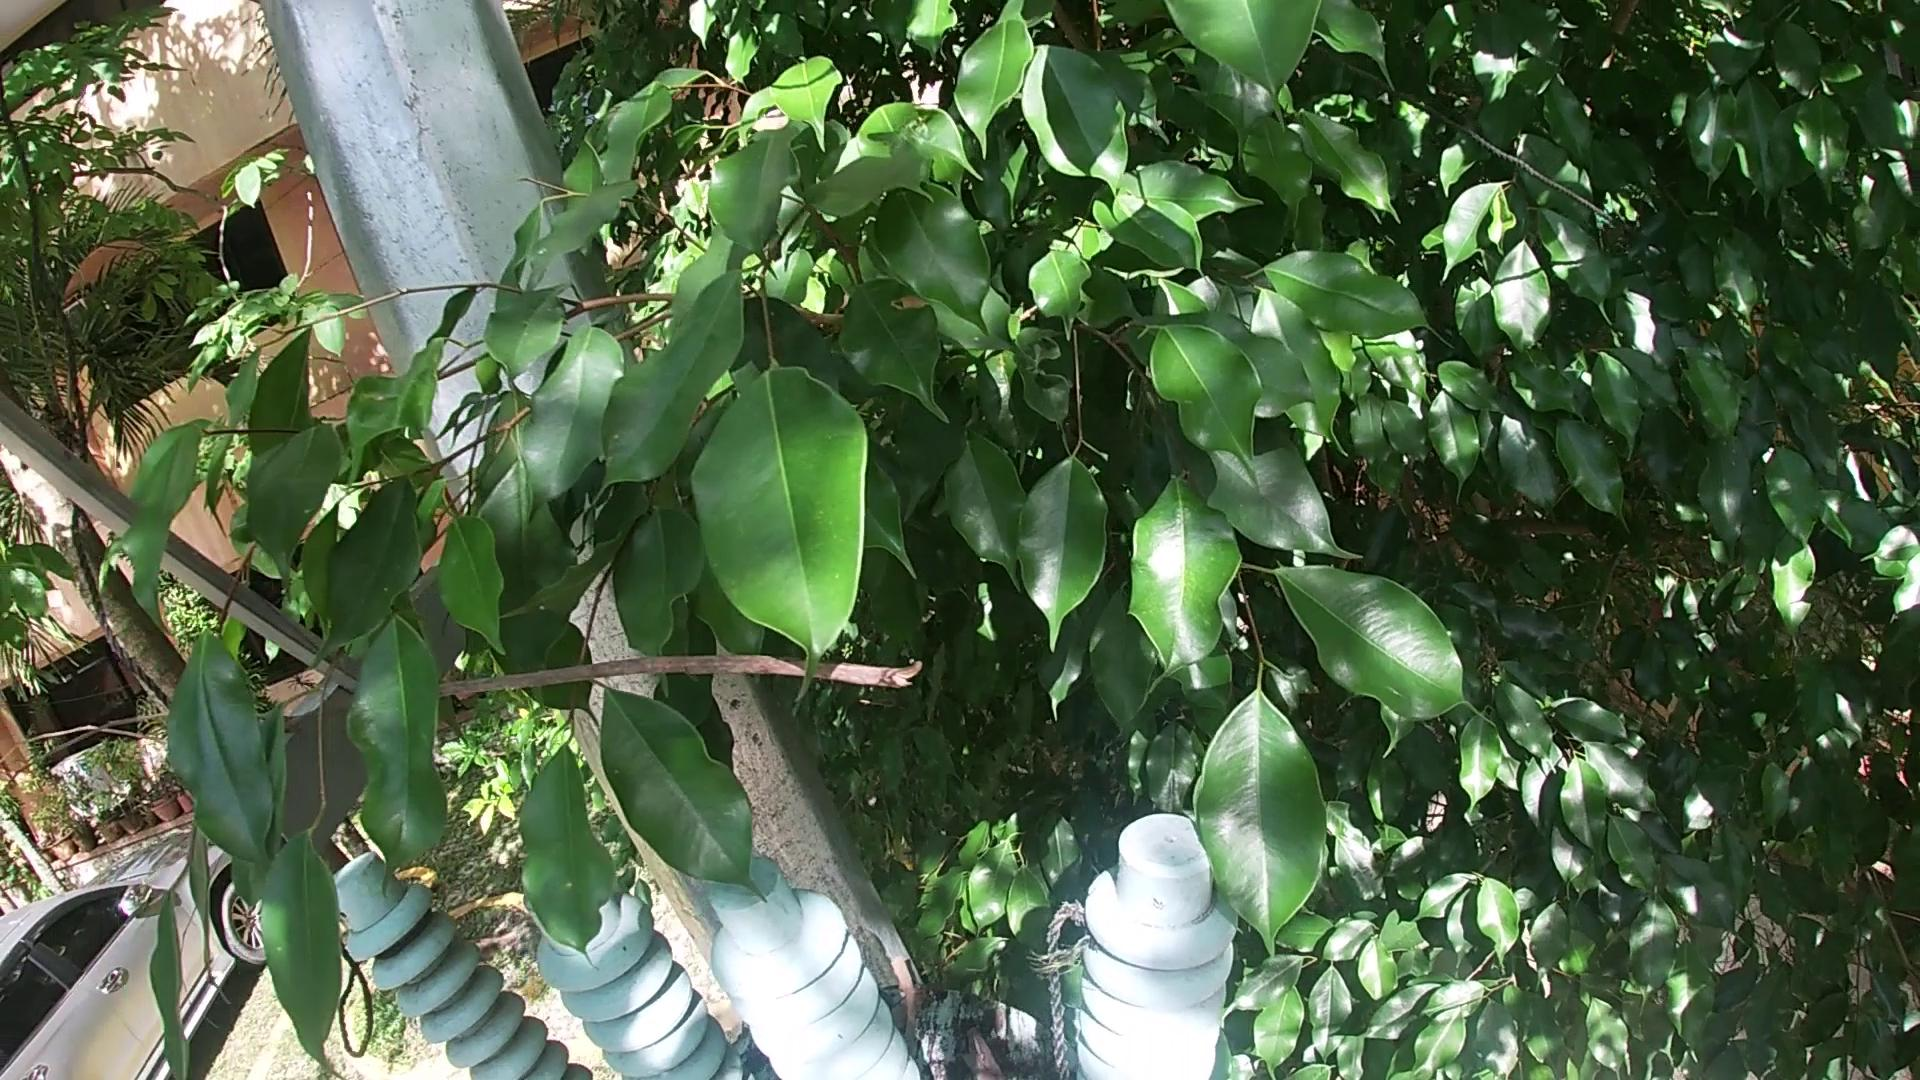tree branch: (3, 629, 975, 996), (949, 1026, 1021, 1080), (894, 955, 916, 1067), (894, 977, 938, 1025)
